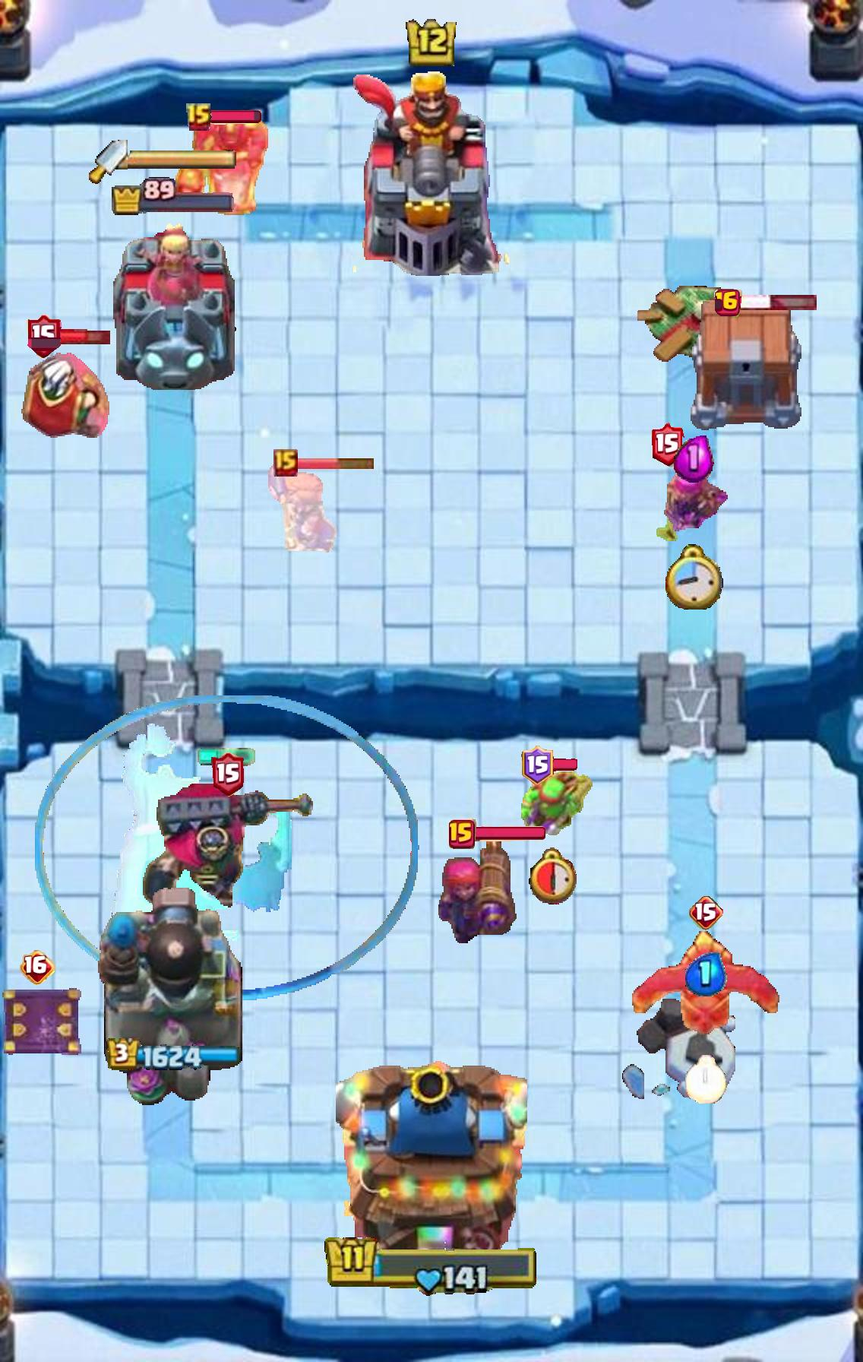bar: (738, 294, 817, 311), (294, 456, 376, 470), (473, 826, 545, 841), (58, 327, 111, 347), (209, 110, 262, 124), (550, 758, 577, 771)
bar-level: (27, 315, 62, 359), (652, 423, 685, 468), (212, 752, 244, 797), (20, 950, 56, 985), (522, 746, 554, 785), (689, 896, 724, 931), (185, 103, 213, 133), (448, 819, 476, 849), (714, 288, 742, 317), (273, 449, 298, 477)
